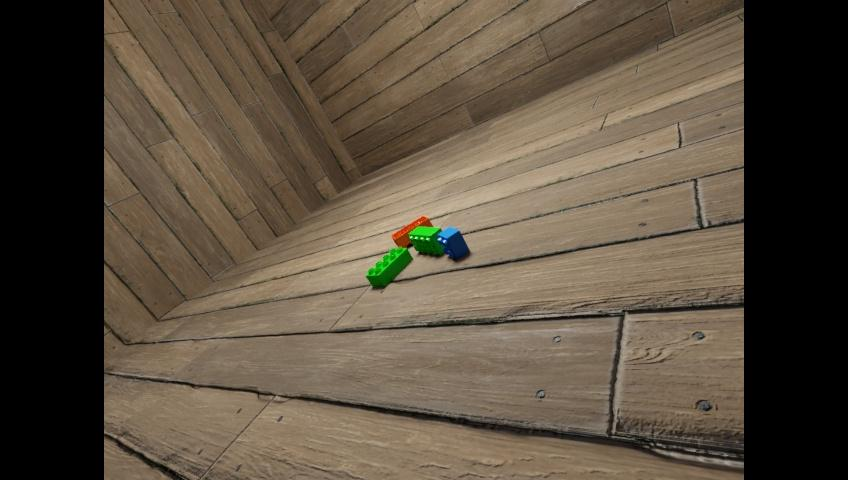2x2_blue: (437, 226, 469, 258)
4x2_green: (365, 247, 412, 286), (408, 226, 444, 254)
4x2_orange: (391, 215, 432, 249)
